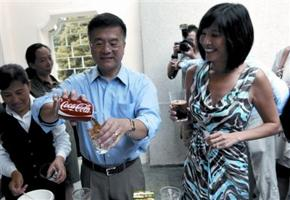person: (31, 14, 162, 200)
